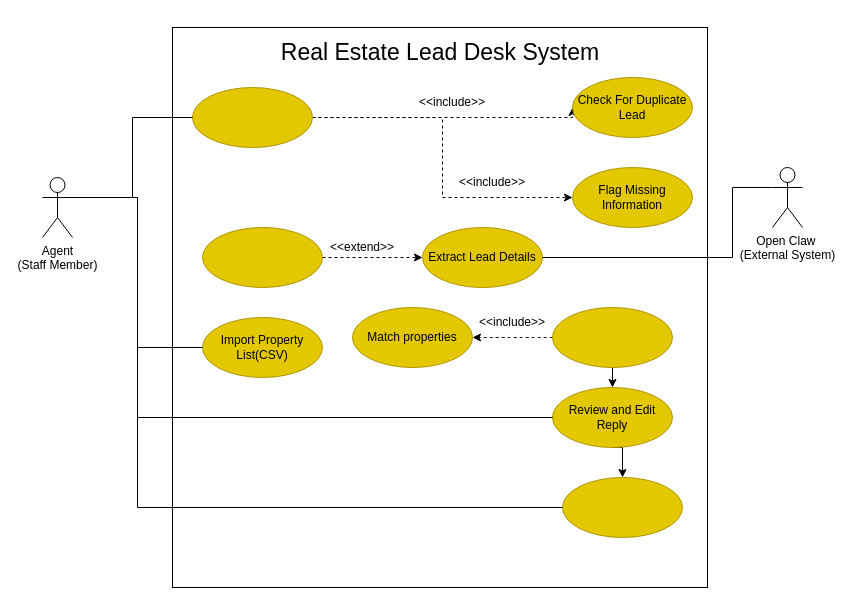
Some shapes in this 852 by 605 pixel diagram are drawn without their labels. The shapes that lost their labels are listed below. From the top down, each one's centre as x and y in pixels, then its label:
[252,117]: Add Customer Enquiry
[262,257]: Apply Fallback Template
[612,337]: Generate Reply Draft
[622,507]: Send Reply
